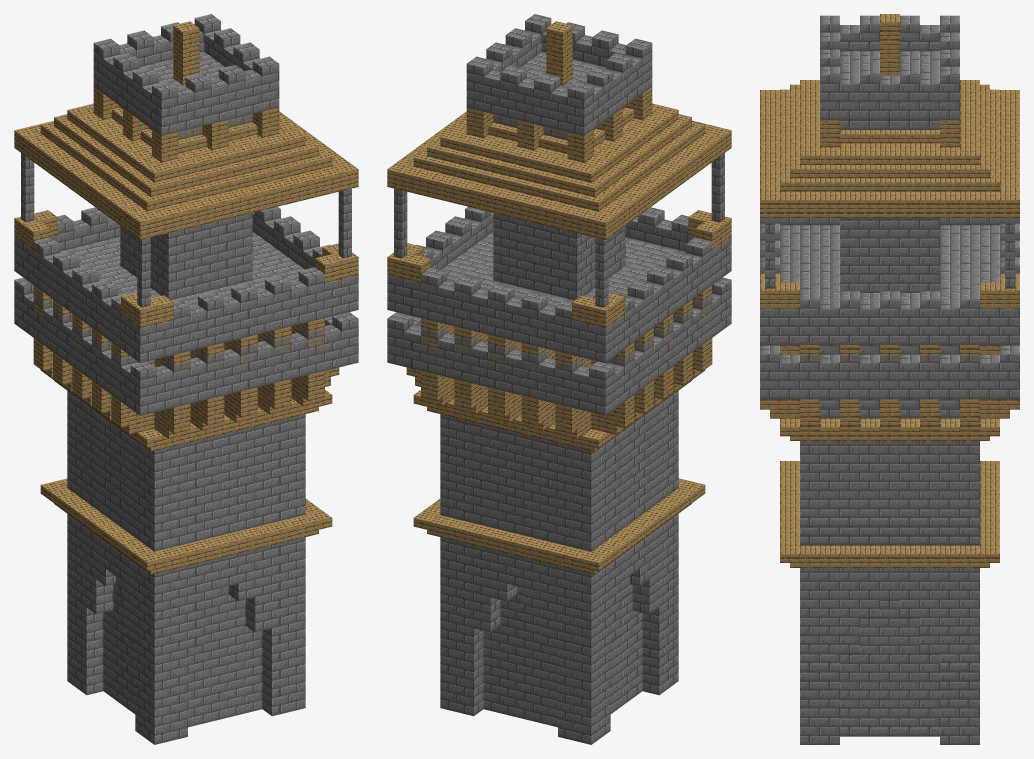
File: Walls_V2.glb
3 renders of one model, left to right at view 1: azimuth 30°, elevation 25°; view 2: azimuth 150°, elevation 25°; view 3: azimuth 270°, elevation 25°, orthographic. The views are drawn at different scales.
Parts seen in each view (by area): view 1: Tower_3, Tower_4, Tower_1; view 2: Tower_3, Tower_4, Tower_1; view 3: Tower_3, Tower_4, Tower_1.
Part boxes in pixels (<box>): Tower_3: <box>14,277,358,744</box>; Tower_4: <box>14,21,358,379</box>; Tower_1: <box>93,14,279,300</box>; Tower_3: <box>387,277,731,744</box>; Tower_4: <box>387,21,731,378</box>; Tower_1: <box>466,14,652,300</box>; Tower_3: <box>760,345,1019,744</box>; Tower_4: <box>760,14,1019,372</box>; Tower_1: <box>820,15,959,292</box>.
Size of the model in its own units: 13 by 38 by 13.
Materials: 2 (2 with a texture image).
